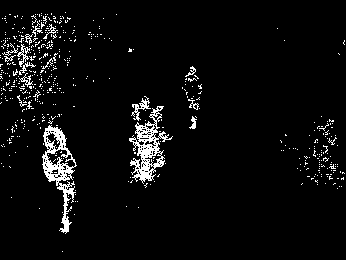person: (39, 126, 78, 233), (181, 65, 205, 130)
